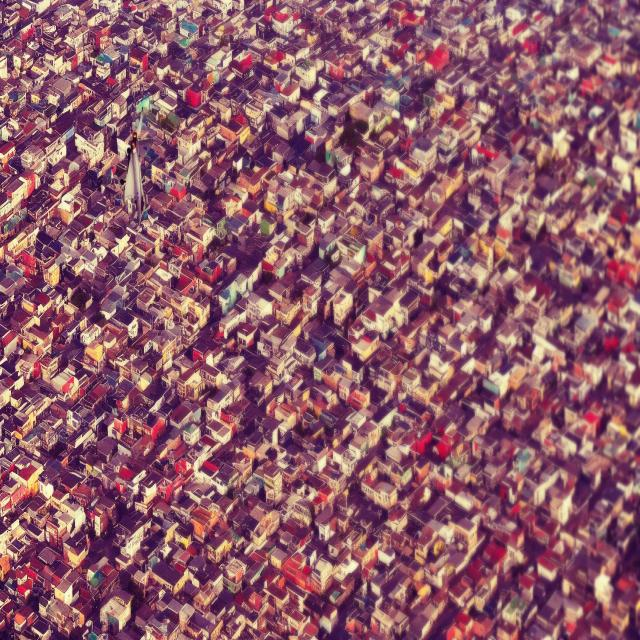airplane: (122, 107, 146, 225)
